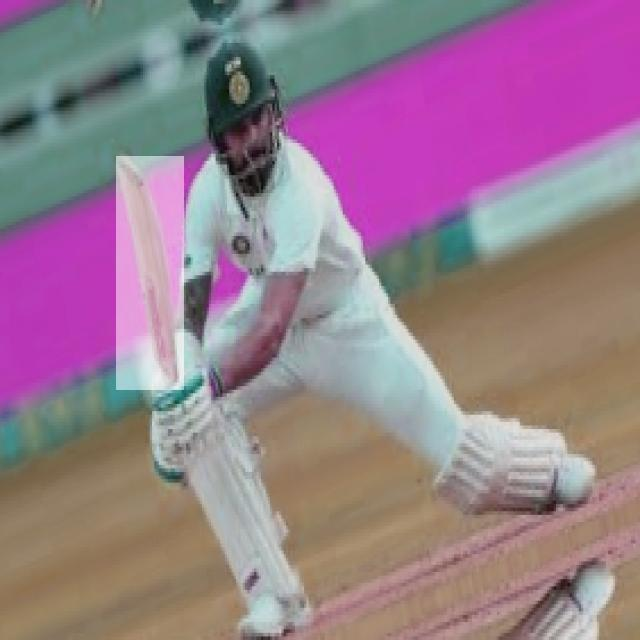bat: (116, 154, 187, 391)
toe: (116, 153, 144, 186)
